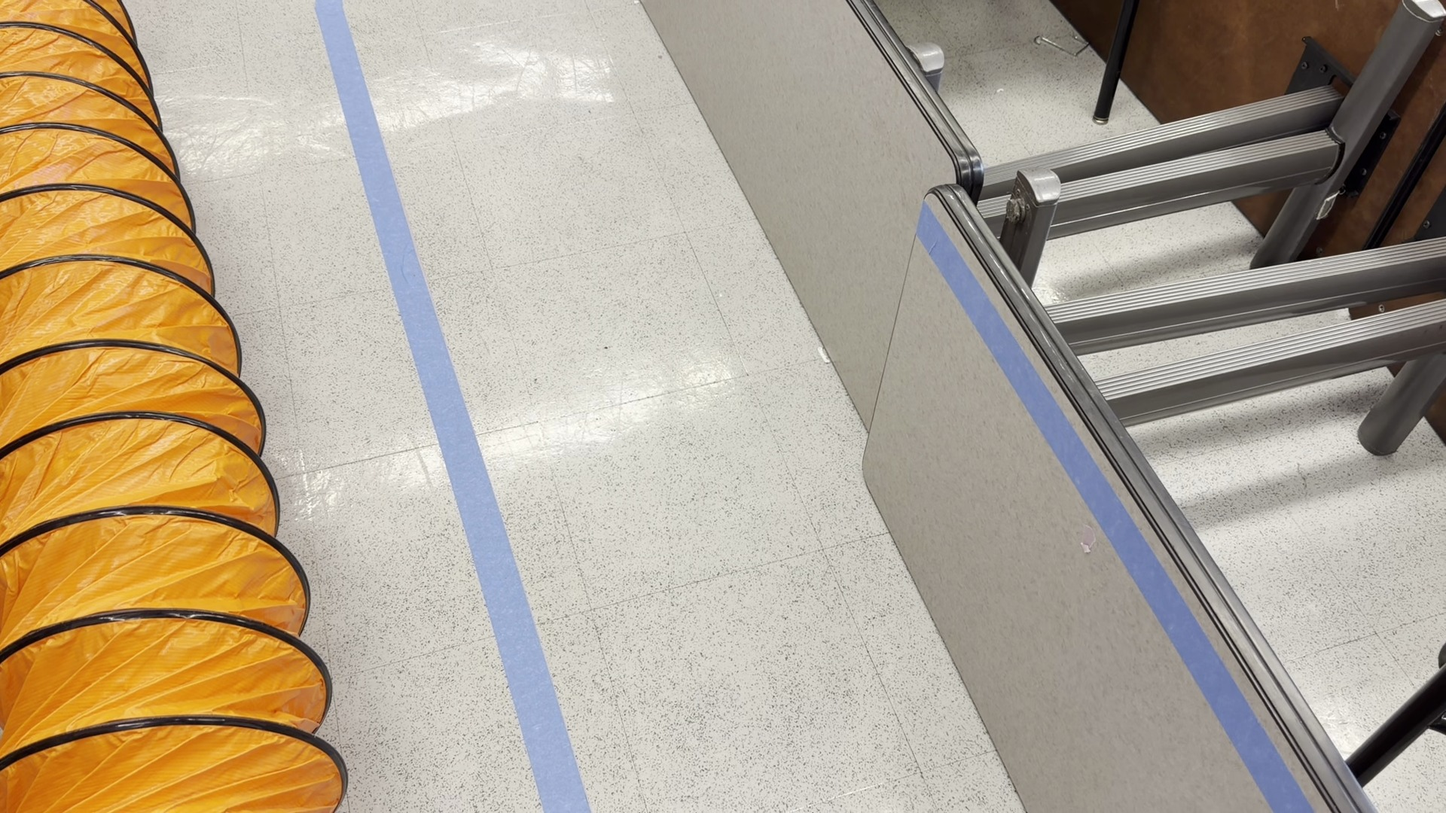racecar: (656, 3, 1444, 813), (850, 3, 1443, 809)
